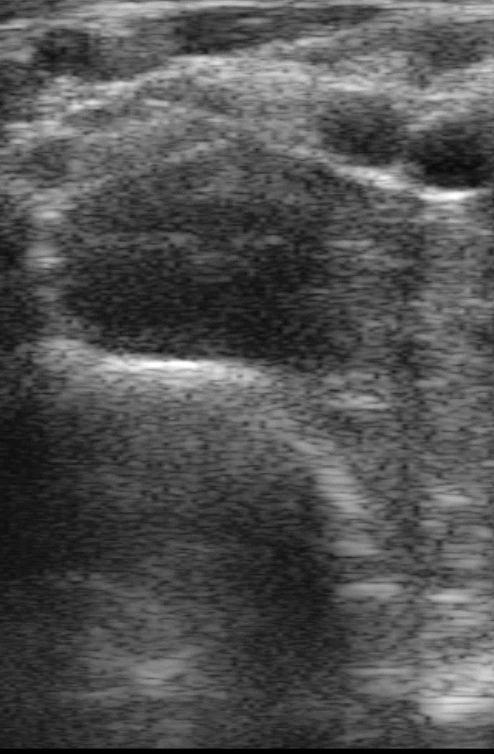veins_detect: (314, 91, 408, 180), (404, 121, 492, 198)
veins_seg: (315, 92, 493, 190)
